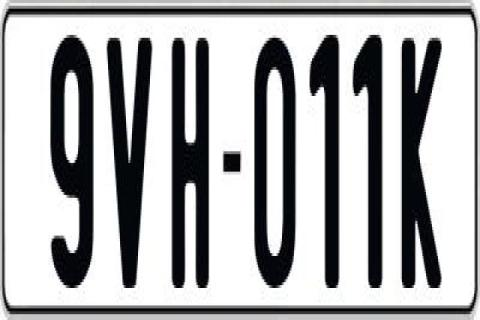0: (48, 32, 96, 288), (254, 35, 296, 299), (350, 26, 384, 288), (308, 26, 340, 282)
H: (168, 38, 212, 300)
K: (402, 32, 446, 288)
V: (106, 32, 154, 296)
